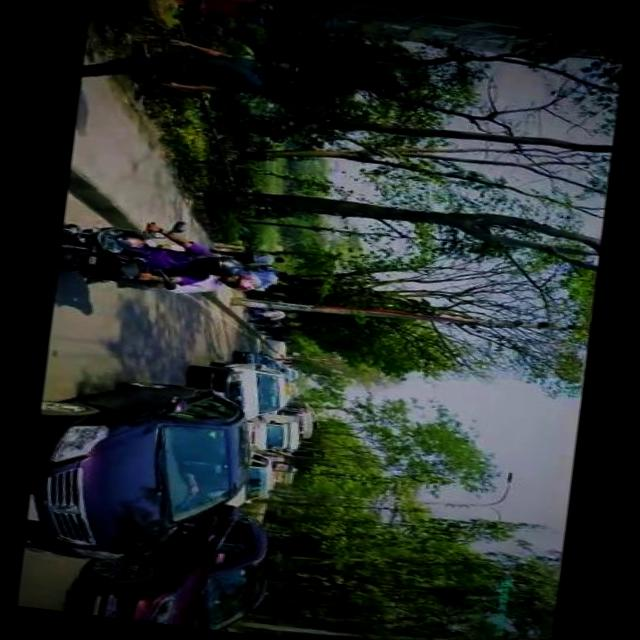bus: (282, 402, 318, 442)
car: (23, 369, 260, 581), (88, 490, 278, 636), (228, 450, 280, 510), (237, 352, 280, 369)
motorcycle: (55, 211, 184, 294)
truck: (191, 358, 293, 426), (249, 414, 303, 456)
